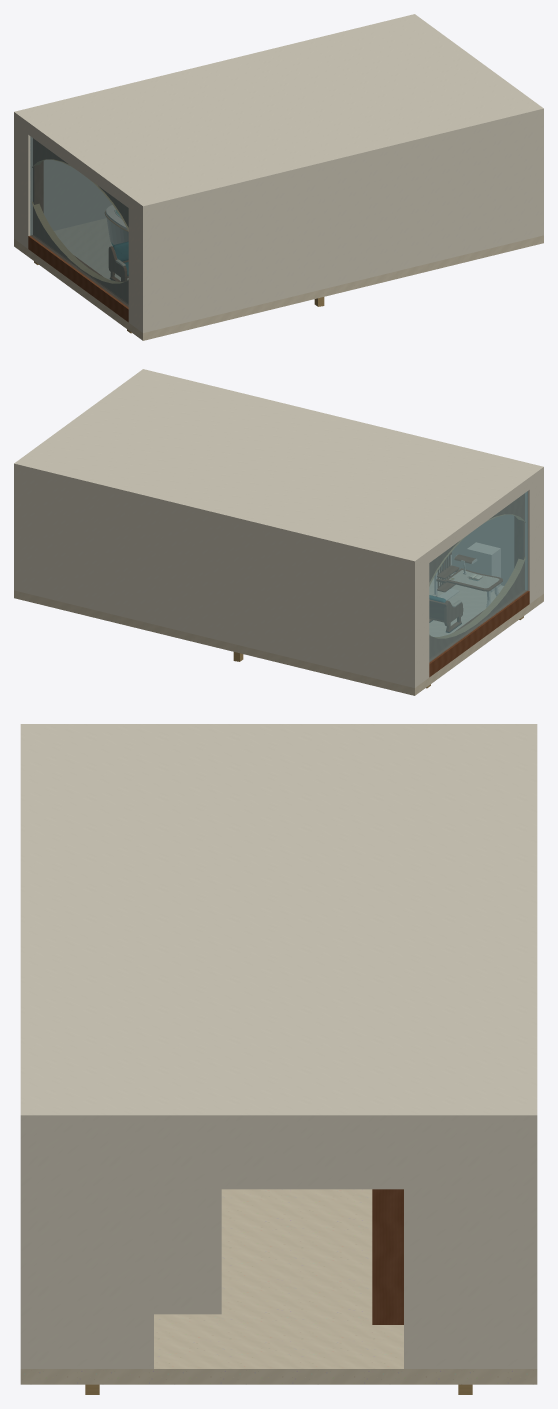
Rendered from QuietGroveBank_463_r001.glb.
3 views of the same model, one above another, from view 1: azimuth 30°, elevation 25°; view 2: azimuth 150°, elevation 25°; view 3: azimuth 270°, elevation 25° (orthographic). The views are drawn at different scales.
Parts seen in each view (by area): view 1: QG463_Ceiling, QG463_SouthSide, QGB463_PrivateCourtGlass, QG463_RoomFloor, QG463_NorthSide, QGB463_CourtNorthPier, QGB463_CourtSouthPier, QGB463_CourtSill, QG463_OvalWindowReveal, QG463_OvalDepthReturn, QGB463_CourtHeader, QG463_QG463_ReservedRestSupport__Hollow continuous basin she (+1 smaller); view 2: QG463_Ceiling, QG463_NorthSide, QGB463_PrivateCourtGlass, QG463_RoomFloor, QG463_SouthSide, QGB463_CourtSouthPier, QGB463_CourtNorthPier, QGB463_CourtSill, QG463_OvalWindowReveal, QG463_RinseServiceMount, QG463_OvalDepthReturn, QGB463_CourtHeader (+2 smaller); view 3: QG463_Ceiling, QG463_RoomFloor, QG463_EntryShoulderNorth, QG463_EntryShoulderSouth, QG463_EntryHeader, QG463_WashEntrySide, QG463_EntryPrivacyDogleg, QG463_NorthSide, QG463_SouthSide.
Boxes of the visible parts, left/top/right/bottom form: QG463_Ceiling: left=14, top=14, right=543, bottom=211; QG463_SouthSide: left=141, top=114, right=543, bottom=332; QGB463_PrivateCourtGlass: left=30, top=136, right=128, bottom=307; QG463_RoomFloor: left=14, top=218, right=543, bottom=340; QG463_NorthSide: left=14, top=117, right=112, bottom=239; QGB463_CourtNorthPier: left=14, top=119, right=32, bottom=248; QGB463_CourtSouthPier: left=128, top=201, right=150, bottom=331; QGB463_CourtSill: left=28, top=235, right=128, bottom=322; QG463_OvalWindowReveal: left=34, top=139, right=128, bottom=303; QG463_OvalDepthReturn: left=32, top=159, right=128, bottom=283; QGB463_CourtHeader: left=28, top=128, right=128, bottom=207; QG463_QG463_ReservedRestSupport__Hollow continuous basin she: left=106, top=205, right=128, bottom=245; QG463_Ceiling: left=14, top=369, right=543, bottom=566; QG463_NorthSide: left=14, top=469, right=416, bottom=687; QGB463_PrivateCourtGlass: left=429, top=491, right=527, bottom=662; QG463_RoomFloor: left=14, top=570, right=543, bottom=695; QG463_SouthSide: left=439, top=472, right=543, bottom=594; QGB463_CourtSouthPier: left=525, top=474, right=541, bottom=603; QGB463_CourtNorthPier: left=407, top=556, right=429, bottom=687; QGB463_CourtSill: left=429, top=590, right=529, bottom=677; QG463_OvalWindowReveal: left=429, top=494, right=523, bottom=658; QG463_RinseServiceMount: left=467, top=542, right=500, bottom=591; QG463_OvalDepthReturn: left=429, top=514, right=525, bottom=638; QGB463_CourtHeader: left=429, top=483, right=529, bottom=562; QG463_Ceiling: left=20, top=724, right=537, bottom=1125; QG463_RoomFloor: left=20, top=1189, right=537, bottom=1384; QG463_EntryShoulderNorth: left=404, top=1125, right=528, bottom=1368; QG463_EntryShoulderSouth: left=29, top=1125, right=153, bottom=1368; QG463_EntryHeader: left=150, top=1125, right=407, bottom=1189; QG463_WashEntrySide: left=154, top=1189, right=221, bottom=1314; QG463_EntryPrivacyDogleg: left=372, top=1189, right=403, bottom=1324; QG463_NorthSide: left=528, top=1125, right=537, bottom=1368; QG463_SouthSide: left=20, top=1125, right=29, bottom=1368.
Bounding box in the file's own units: 12.9 × 4.91 × 7.2.
Materials: 61 (43 with a texture image).
